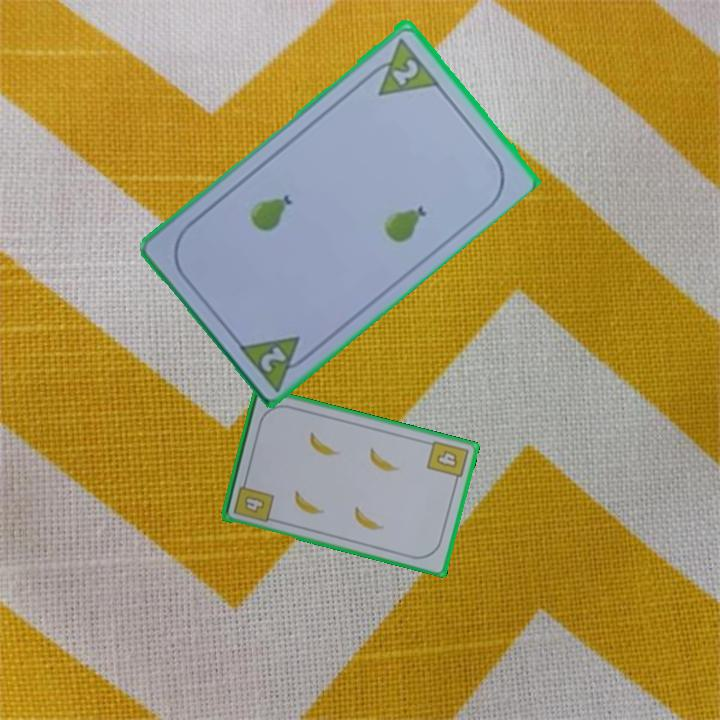2p: (362, 33, 441, 99), (234, 331, 317, 392)
4b: (423, 437, 471, 487), (230, 475, 277, 525)
